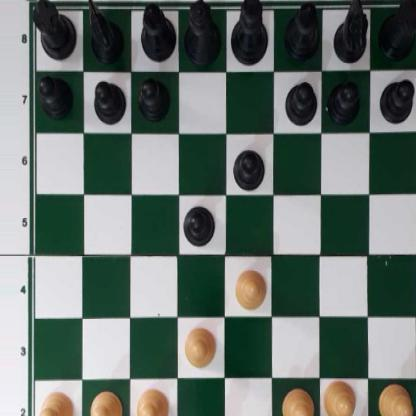black-bishop: (283, 0, 320, 59), (140, 1, 176, 61)
black-king: (232, 0, 268, 67)
black-knight: (88, 0, 124, 64), (334, 0, 367, 64)
black-pawn: (379, 77, 414, 124), (39, 74, 73, 118), (93, 78, 125, 124), (233, 145, 266, 189), (328, 78, 360, 122), (285, 82, 316, 125), (138, 77, 169, 120), (183, 204, 214, 246)
black-queen: (184, 0, 222, 63)
black-rook: (32, 0, 78, 58), (379, 0, 416, 61)
white-pawn: (183, 324, 217, 368), (233, 267, 267, 310), (324, 379, 356, 416), (378, 383, 413, 416), (135, 386, 169, 416), (36, 390, 75, 416), (281, 387, 314, 416), (90, 390, 122, 416)
